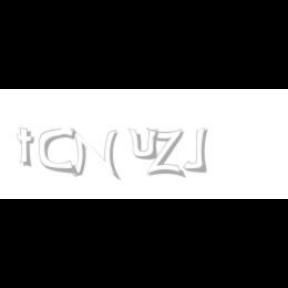C: (40, 128, 76, 174)
J: (182, 128, 208, 172)
N: (70, 128, 119, 180)
Z: (146, 128, 183, 178)
t: (17, 128, 39, 168)
u: (128, 128, 162, 160)
